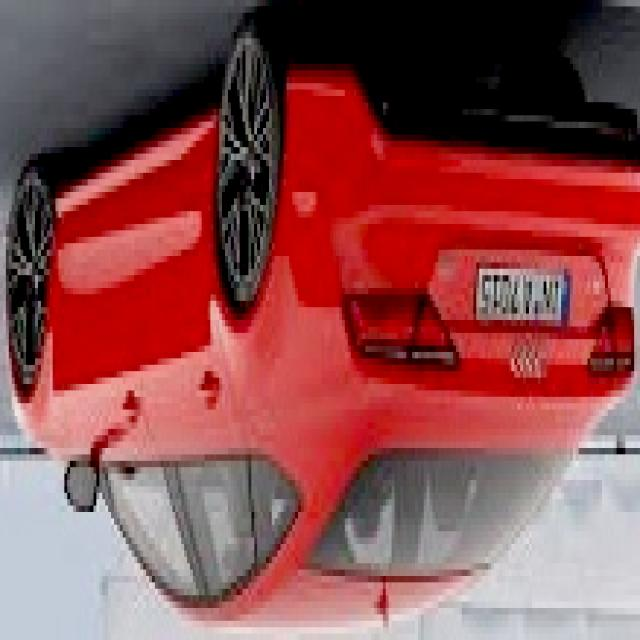red: (8, 54, 631, 632)
